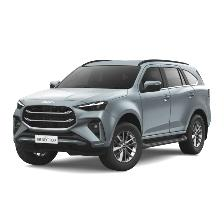NON-EV: (14, 54, 213, 172)
